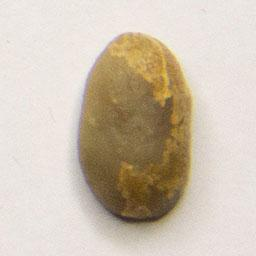longberry: (73, 27, 197, 226)
